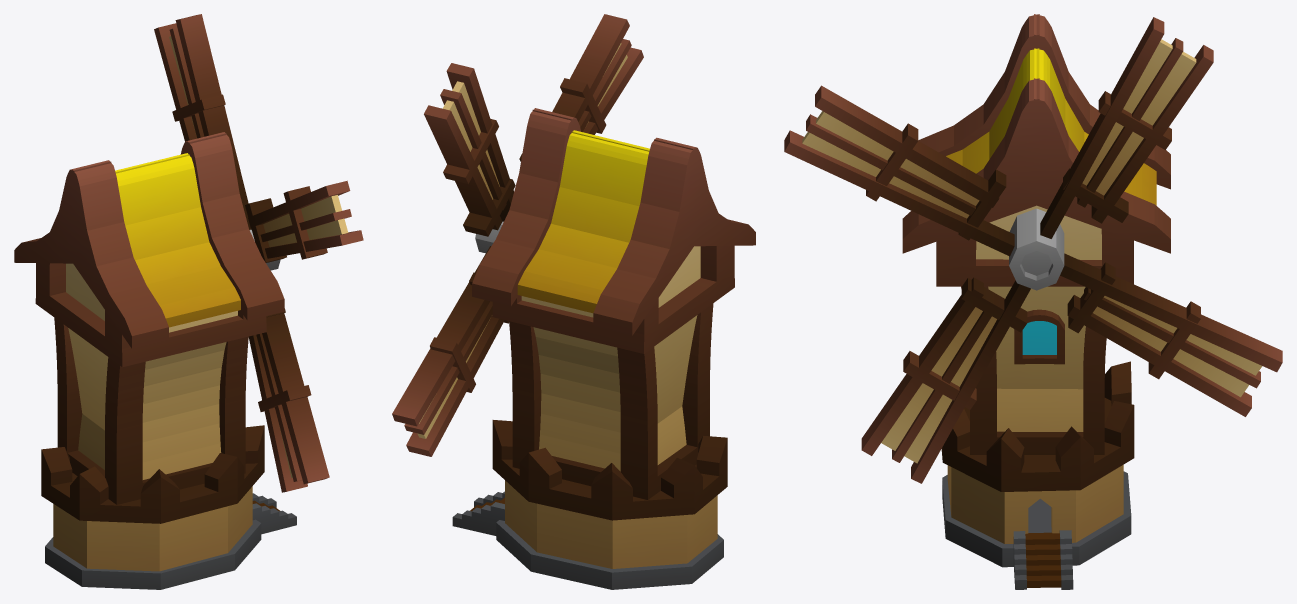
Rendered from factory.fbx.
3 views of the same model, side by side, from view 1: azimuth 30°, elevation 25°; view 2: azimuth 150°, elevation 25°; view 3: azimuth 270°, elevation 25° (orthographic). The views are drawn at different scales.
Parts seen in each view (by area): view 1: Kostka.030, Kostka, Kostka.024, Kostka.003, Kostka.010; view 2: Kostka.030, Kostka, Kostka.024, Kostka.003, Kostka.010; view 3: Kostka.030, Kostka.024, Kostka, Kostka.010, Kostka.003, Walec.001.
Part boxes in pixels (x1,y1,x2,y2): Kostka.030: (14,132,296,589); Kostka: (53,263,279,571); Kostka.024: (154,14,363,492); Kostka.003: (115,153,240,327); Kostka.010: (169,36,348,477); Kostka.030: (452,108,755,589); Kostka: (470,246,717,568); Kostka.024: (392,14,643,456); Kostka.003: (517,130,649,313); Kostka.010: (417,43,627,438); Kostka.030: (902,14,1170,589); Kostka.024: (784,17,1282,483); Kostka: (947,205,1123,587); Kostka.010: (802,39,1262,463); Kostka.003: (946,48,1156,205); Walec.001: (1009,208,1064,290).
Size of the model in its own units: 99.31 by 196 by 163.
1 material, 1 textured.
